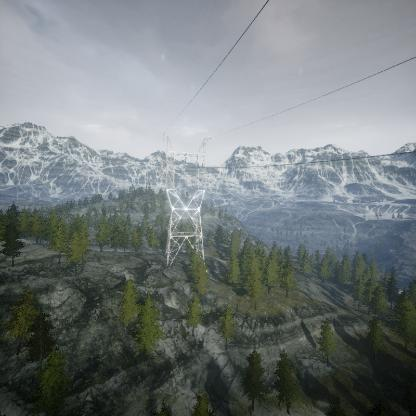tower: (159, 130, 213, 276)
